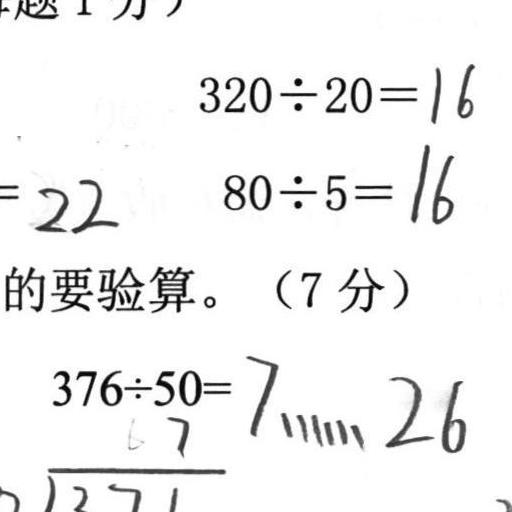ans: (240, 352, 469, 457), (28, 171, 118, 235), (404, 139, 456, 225), (423, 56, 475, 122)
